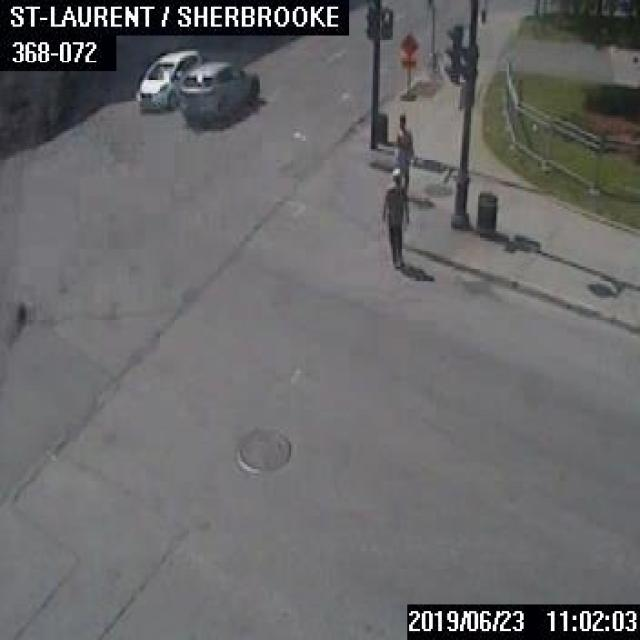construction: (399, 31, 418, 99)
pedestrian: (382, 167, 411, 267), (392, 112, 415, 185)
vehicle: (178, 60, 258, 123), (136, 48, 202, 108)
